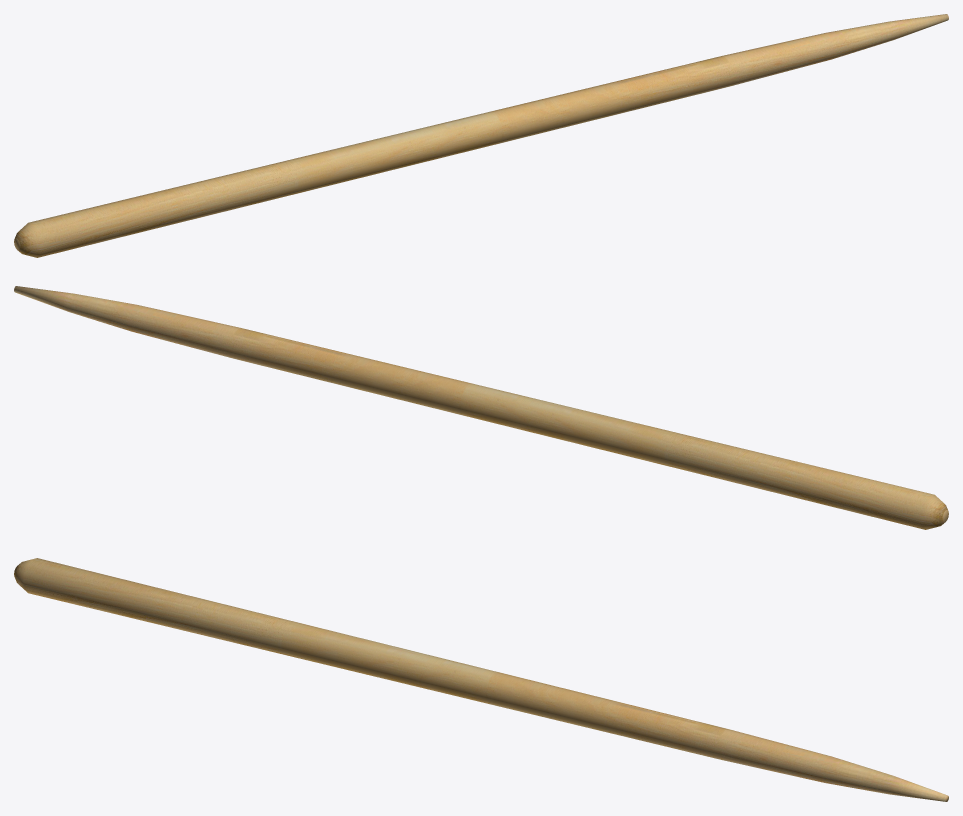
Rendered from _stick.FBX.
3 renders of one model, top to bottom at view 1: azimuth 30°, elevation 25°; view 2: azimuth 150°, elevation 25°; view 3: azimuth 330°, elevation 25°, orthographic.
Parts seen in each view (by area): view 1: Cylinder01; view 2: Cylinder01; view 3: Cylinder01.
Part boxes in pixels (bbox=[...]): Cylinder01: bbox=[14, 14, 948, 257]; Cylinder01: bbox=[14, 286, 948, 529]; Cylinder01: bbox=[14, 558, 948, 801].
Bounding box in the file's own units: 2750 × 93.25 × 93.25.
1 material, 1 textured.
